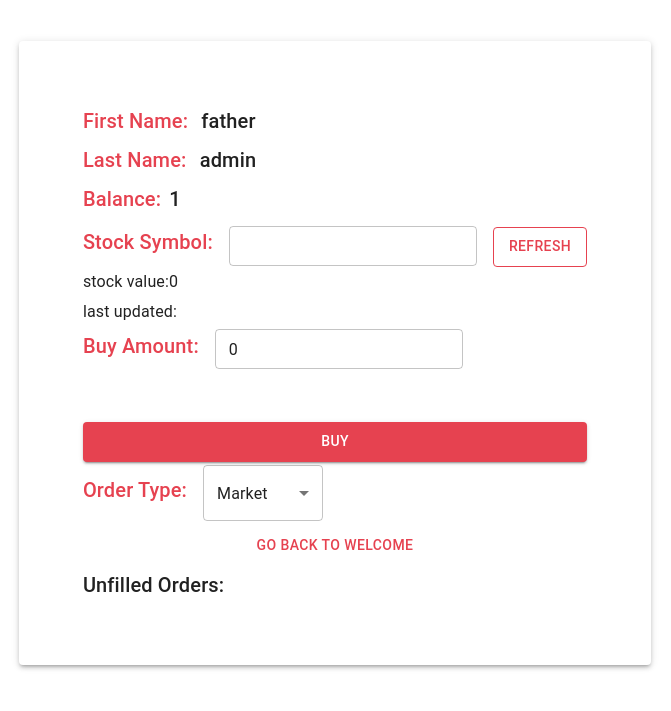
Test Buy component › displays error message when balance is insufficient
This screenshot has width=671, height=711.
Type "AAPL" into the field labelled "Stock Symbol:".
click(353, 246); type("AAPL")  # box [229,226,477,266]
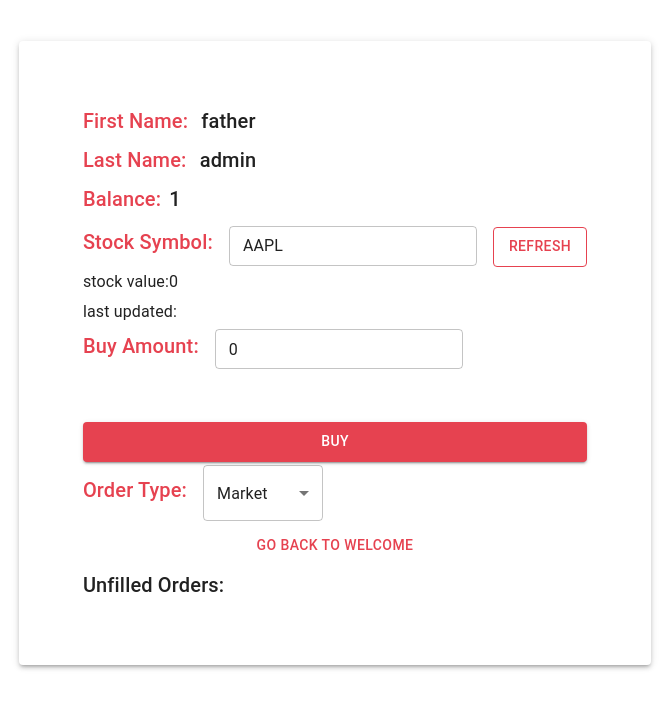
Replace the text in the number field labelled "Buy Amount:" with "1" at {"x": 339, "y": 349}, box [215,329,463,369]
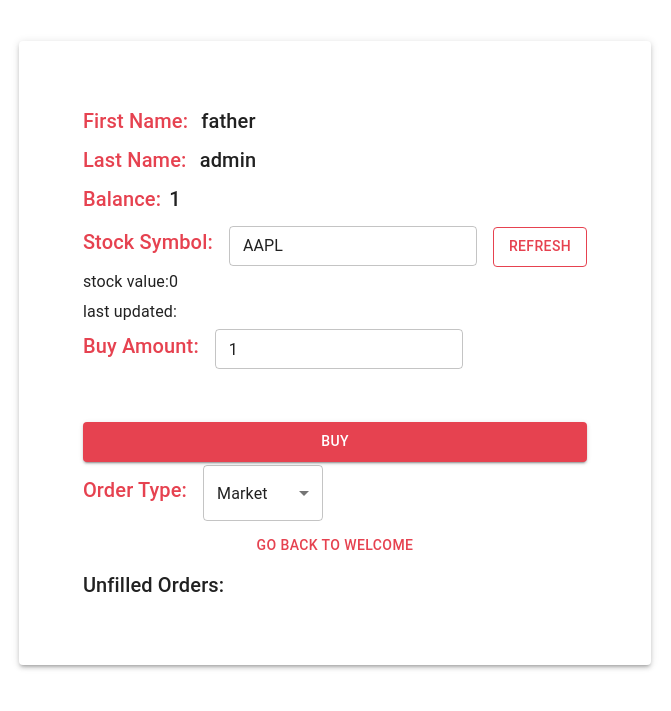
Click the button "Buy".
click(335, 442)  # box [83,422,587,462]
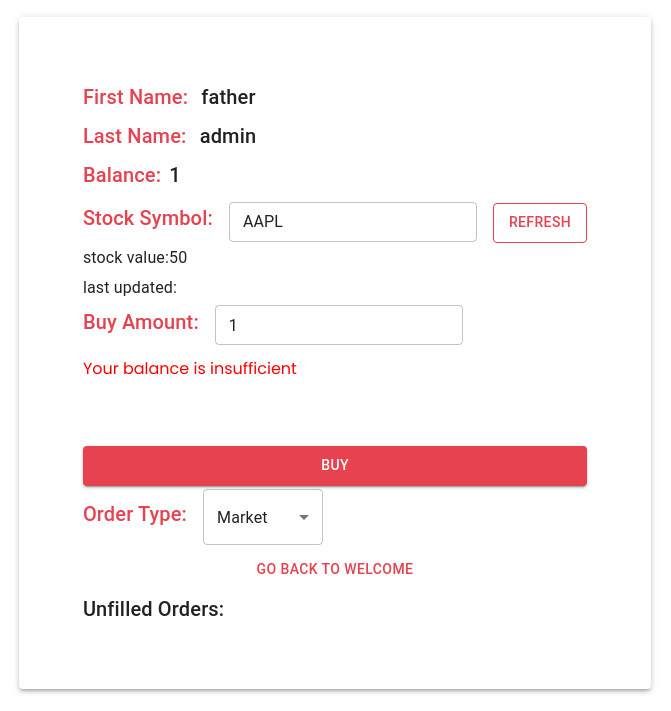
Now the text "Your balance is insufficient" is shown, box [83,357,297,380]
